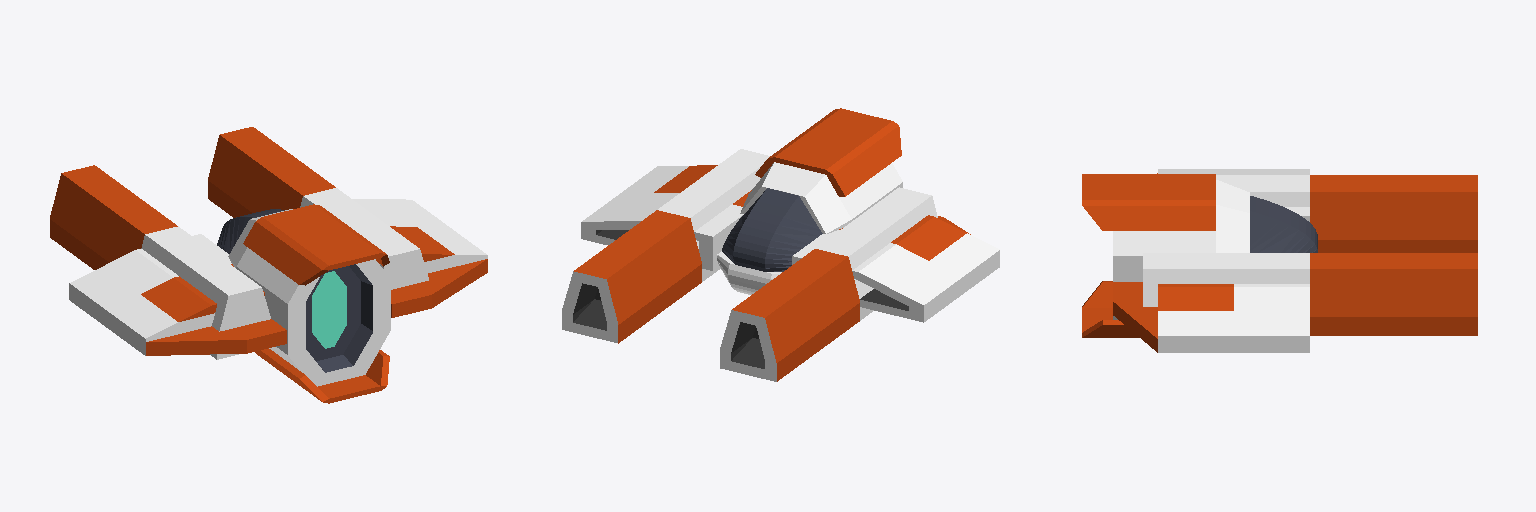
Rendered from Gemini.obj.
3 views of the same model, side by side, from view 1: azimuth 30°, elevation 25°; view 2: azimuth 150°, elevation 25°; view 3: azimuth 270°, elevation 25° (orthographic).
Visible parts, largest first — view 1: engine_high_4, engine_barrelTop_0, engine_barrelTop_1, engine_corner_2, engine_corner_3, wing_endLong_13, wing_endLong_14, glass_curved_6; view 2: engine_barrelTop_0, engine_barrelTop_1, engine_high_4, engine_corner_2, engine_corner_3, glass_curved_6, glass_curved_7; view 3: engine_barrelTop_1, engine_barrelTop_0, engine_high_4, engine_corner_3, glass_curved_6, wing_endLong_14, engine_corner_2.
Boxes of the visible parts, <box> form: engine_high_4: <box>228,204,390,403</box>; engine_barrelTop_0: <box>50,165,270,359</box>; engine_barrelTop_1: <box>208,127,428,289</box>; engine_corner_2: <box>69,234,264,355</box>; engine_corner_3: <box>353,199,487,273</box>; wing_endLong_13: <box>146,319,286,355</box>; wing_endLong_14: <box>391,259,487,317</box>; glass_curved_6: <box>217,209,284,253</box>; engine_barrelTop_0: <box>720,187,937,381</box>; engine_barrelTop_1: <box>562,149,769,343</box>; engine_high_4: <box>740,108,902,233</box>; engine_corner_2: <box>792,215,999,322</box>; engine_corner_3: <box>581,165,751,270</box>; glass_curved_6: <box>722,188,822,271</box>; glass_curved_7: <box>717,251,781,294</box>; engine_barrelTop_1: <box>1143,253,1477,335</box>; engine_barrelTop_0: <box>1216,175,1477,252</box>; engine_high_4: <box>1082,174,1249,337</box>; engine_corner_3: <box>1158,284,1309,352</box>; glass_curved_6: <box>1250,196,1317,252</box>; wing_endLong_14: <box>1113,282,1157,352</box>; engine_corner_2: <box>1158,169,1309,221</box>.
Size of the model in its own units: 2.6 by 1 by 2.6.